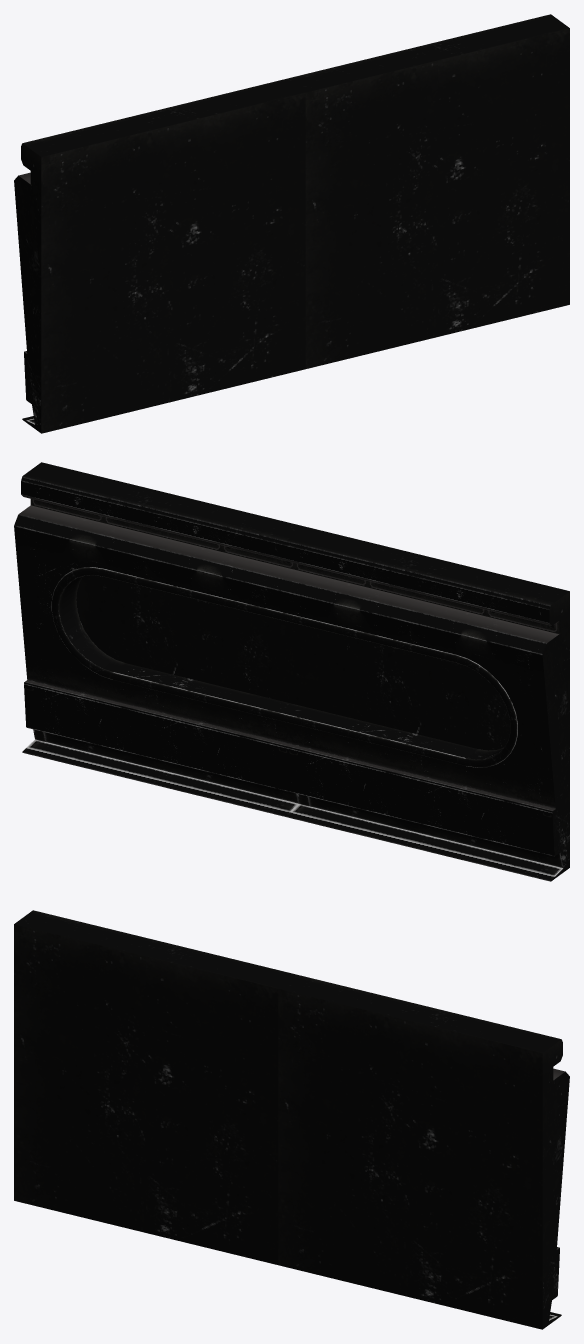
The model's file is SM_Wall_Double_B.FBX.
3 renders of one model, top to bottom at view 1: azimuth 30°, elevation 25°; view 2: azimuth 150°, elevation 25°; view 3: azimuth 330°, elevation 25°, orthographic.
Visible parts, largest first — view 1: SM_Wall_Double_B; view 2: SM_Wall_Double_B; view 3: SM_Wall_Double_B.
Part boxes in pixels (bbox=[...]): SM_Wall_Double_B: bbox=[14, 14, 569, 433]; SM_Wall_Double_B: bbox=[14, 462, 569, 881]; SM_Wall_Double_B: bbox=[14, 910, 569, 1329].
Size of the model in its own units: 800 by 400 by 71.98.
Materials: 1 (1 with a texture image).
